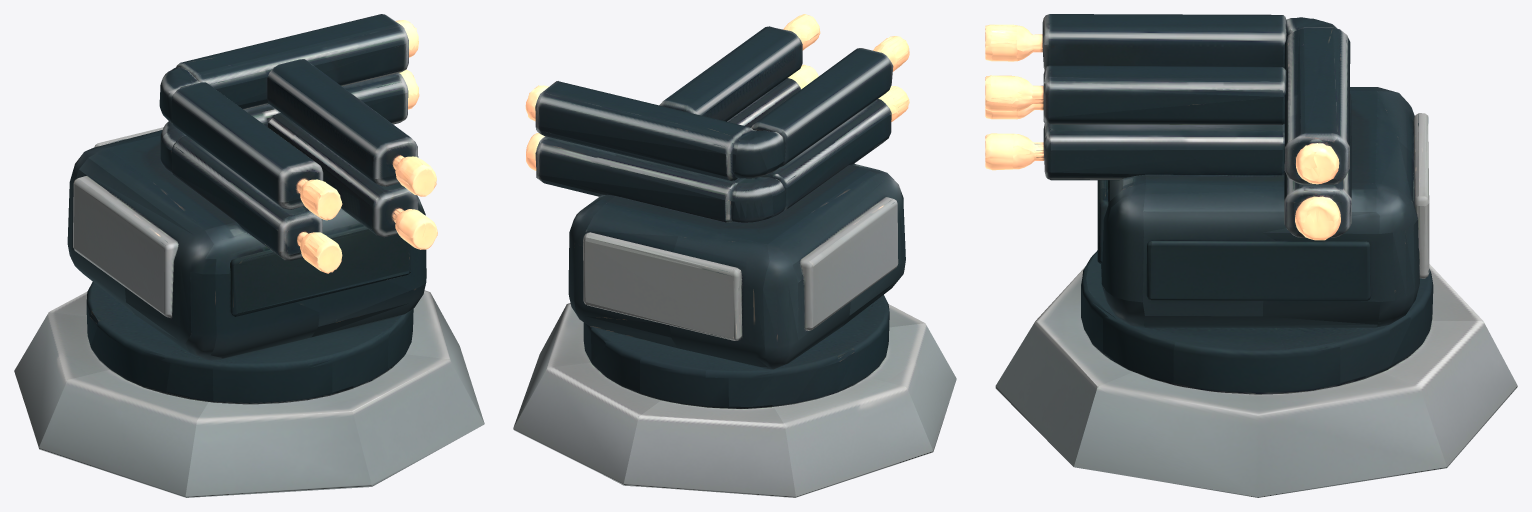
The model's file is precision-strike.glb.
3 renders of one model, left to right at view 1: azimuth 30°, elevation 25°; view 2: azimuth 150°, elevation 25°; view 3: azimuth 270°, elevation 25°, orthographic. The views are drawn at different scales.
Size of the model in its own units: 0.9863 by 0.7148 by 1.
Materials: 1 (1 with a texture image).
